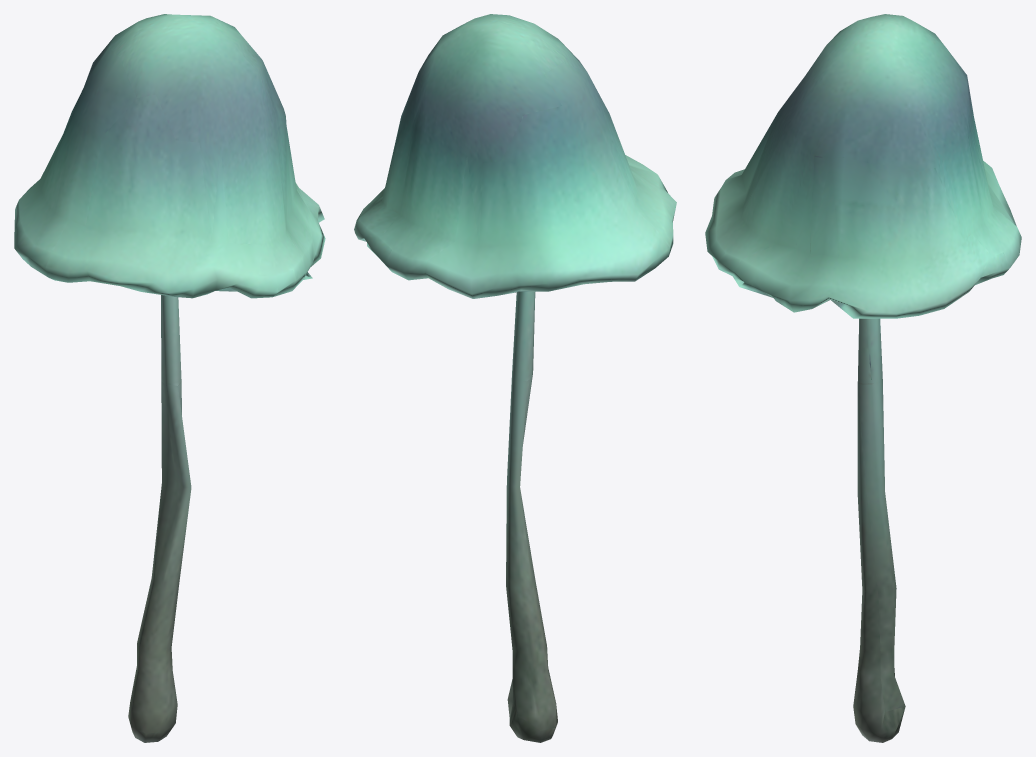
File: fungus-teal-tall-b.gltf
3 views of the same model, side by side, from view 1: azimuth 30°, elevation 25°; view 2: azimuth 150°, elevation 25°; view 3: azimuth 270°, elevation 25° (orthographic). The views are drawn at different scales.
Parts seen in each view (by area): view 1: fungus-teal-tall-b; view 2: fungus-teal-tall-b; view 3: fungus-teal-tall-b.
Boxes of the visible parts, x1,y1,x2,y2 form: fungus-teal-tall-b: (14,14,325,742); fungus-teal-tall-b: (354,14,676,742); fungus-teal-tall-b: (705,14,1021,742).
Bounding box in the file's own units: 0.3613 × 0.8643 × 0.3394.
1 material, 1 textured.
